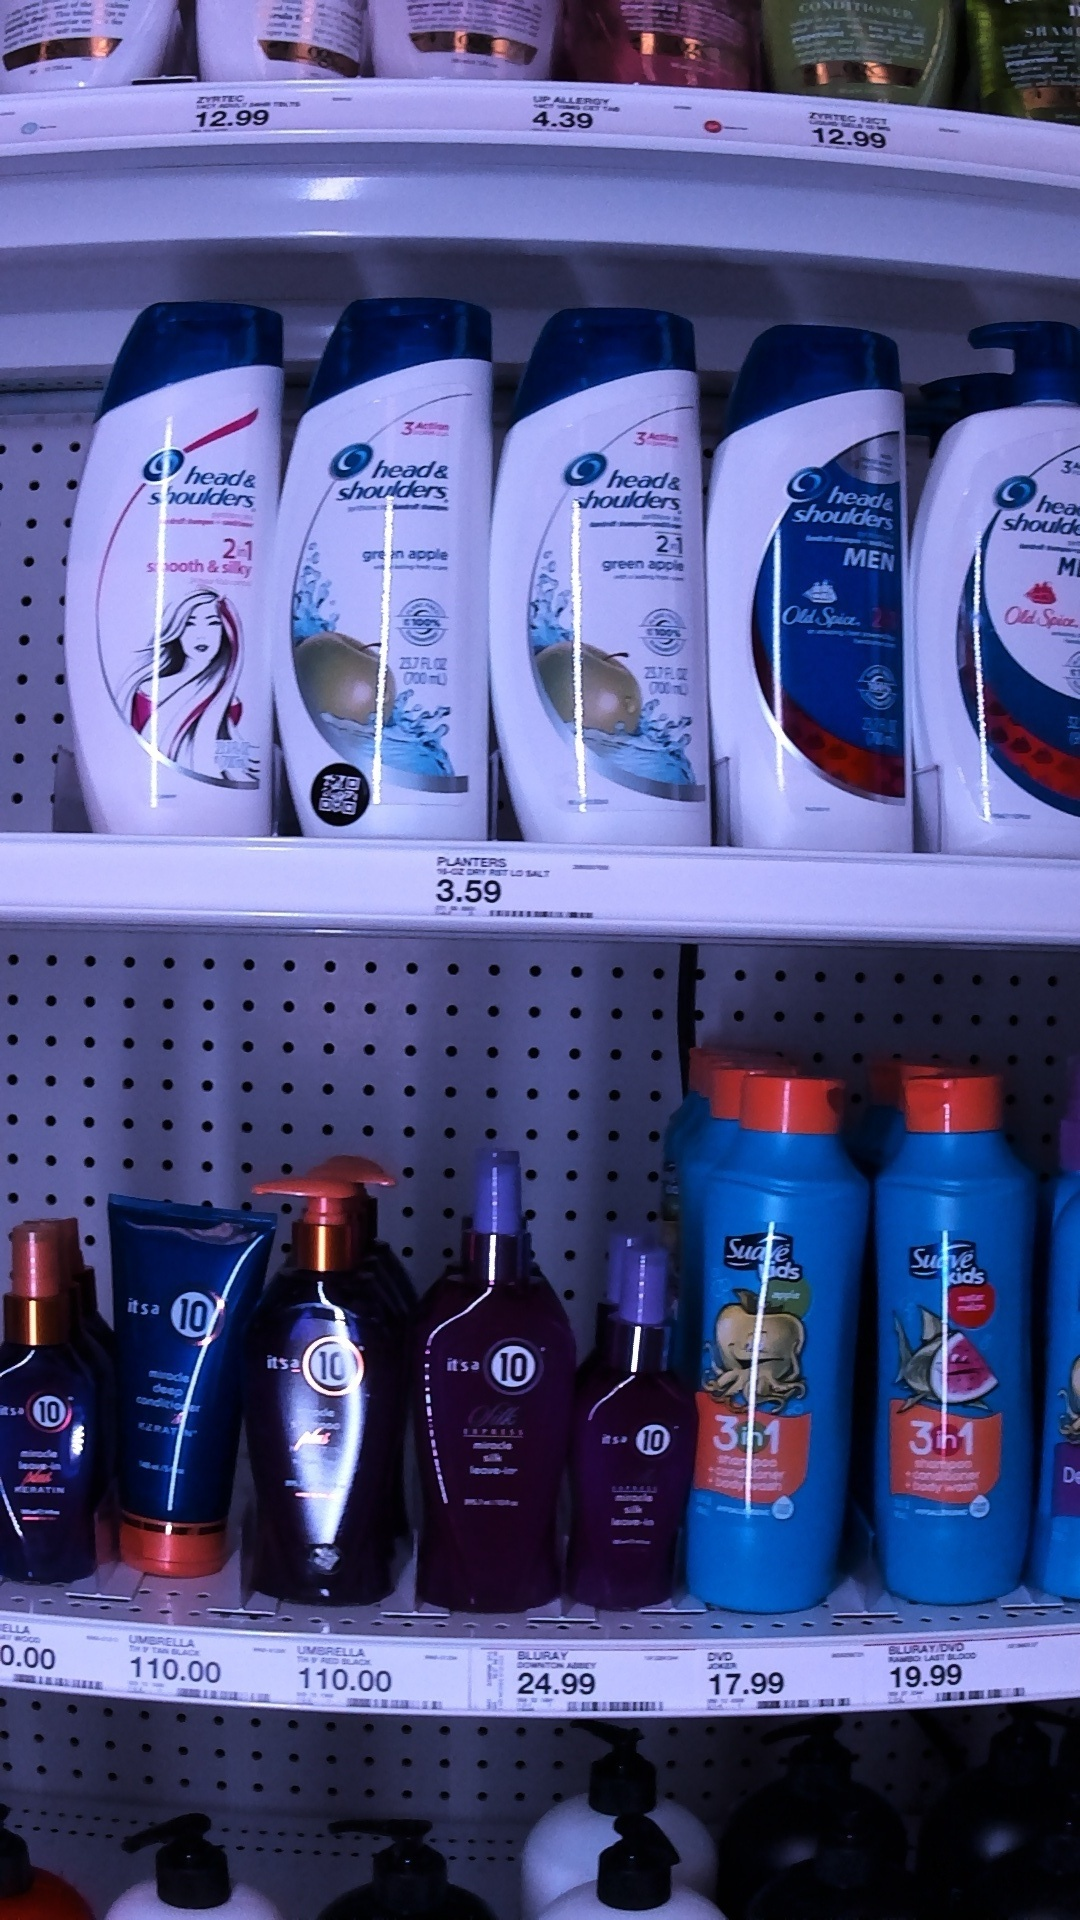ptag: (425, 840, 626, 940), (298, 1631, 454, 1720), (129, 1622, 272, 1716), (504, 1642, 669, 1716), (700, 1648, 858, 1717), (886, 1640, 1044, 1709), (193, 82, 355, 146), (524, 80, 658, 149), (802, 100, 922, 169), (1, 1622, 105, 1700)
